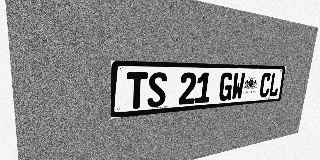1: (195, 72, 212, 103)
2: (179, 72, 197, 105)
C: (259, 73, 272, 98)
G: (218, 72, 234, 101)
L: (268, 73, 281, 97)
S: (147, 72, 167, 108)
T: (126, 72, 148, 109)
W: (231, 73, 246, 100)
